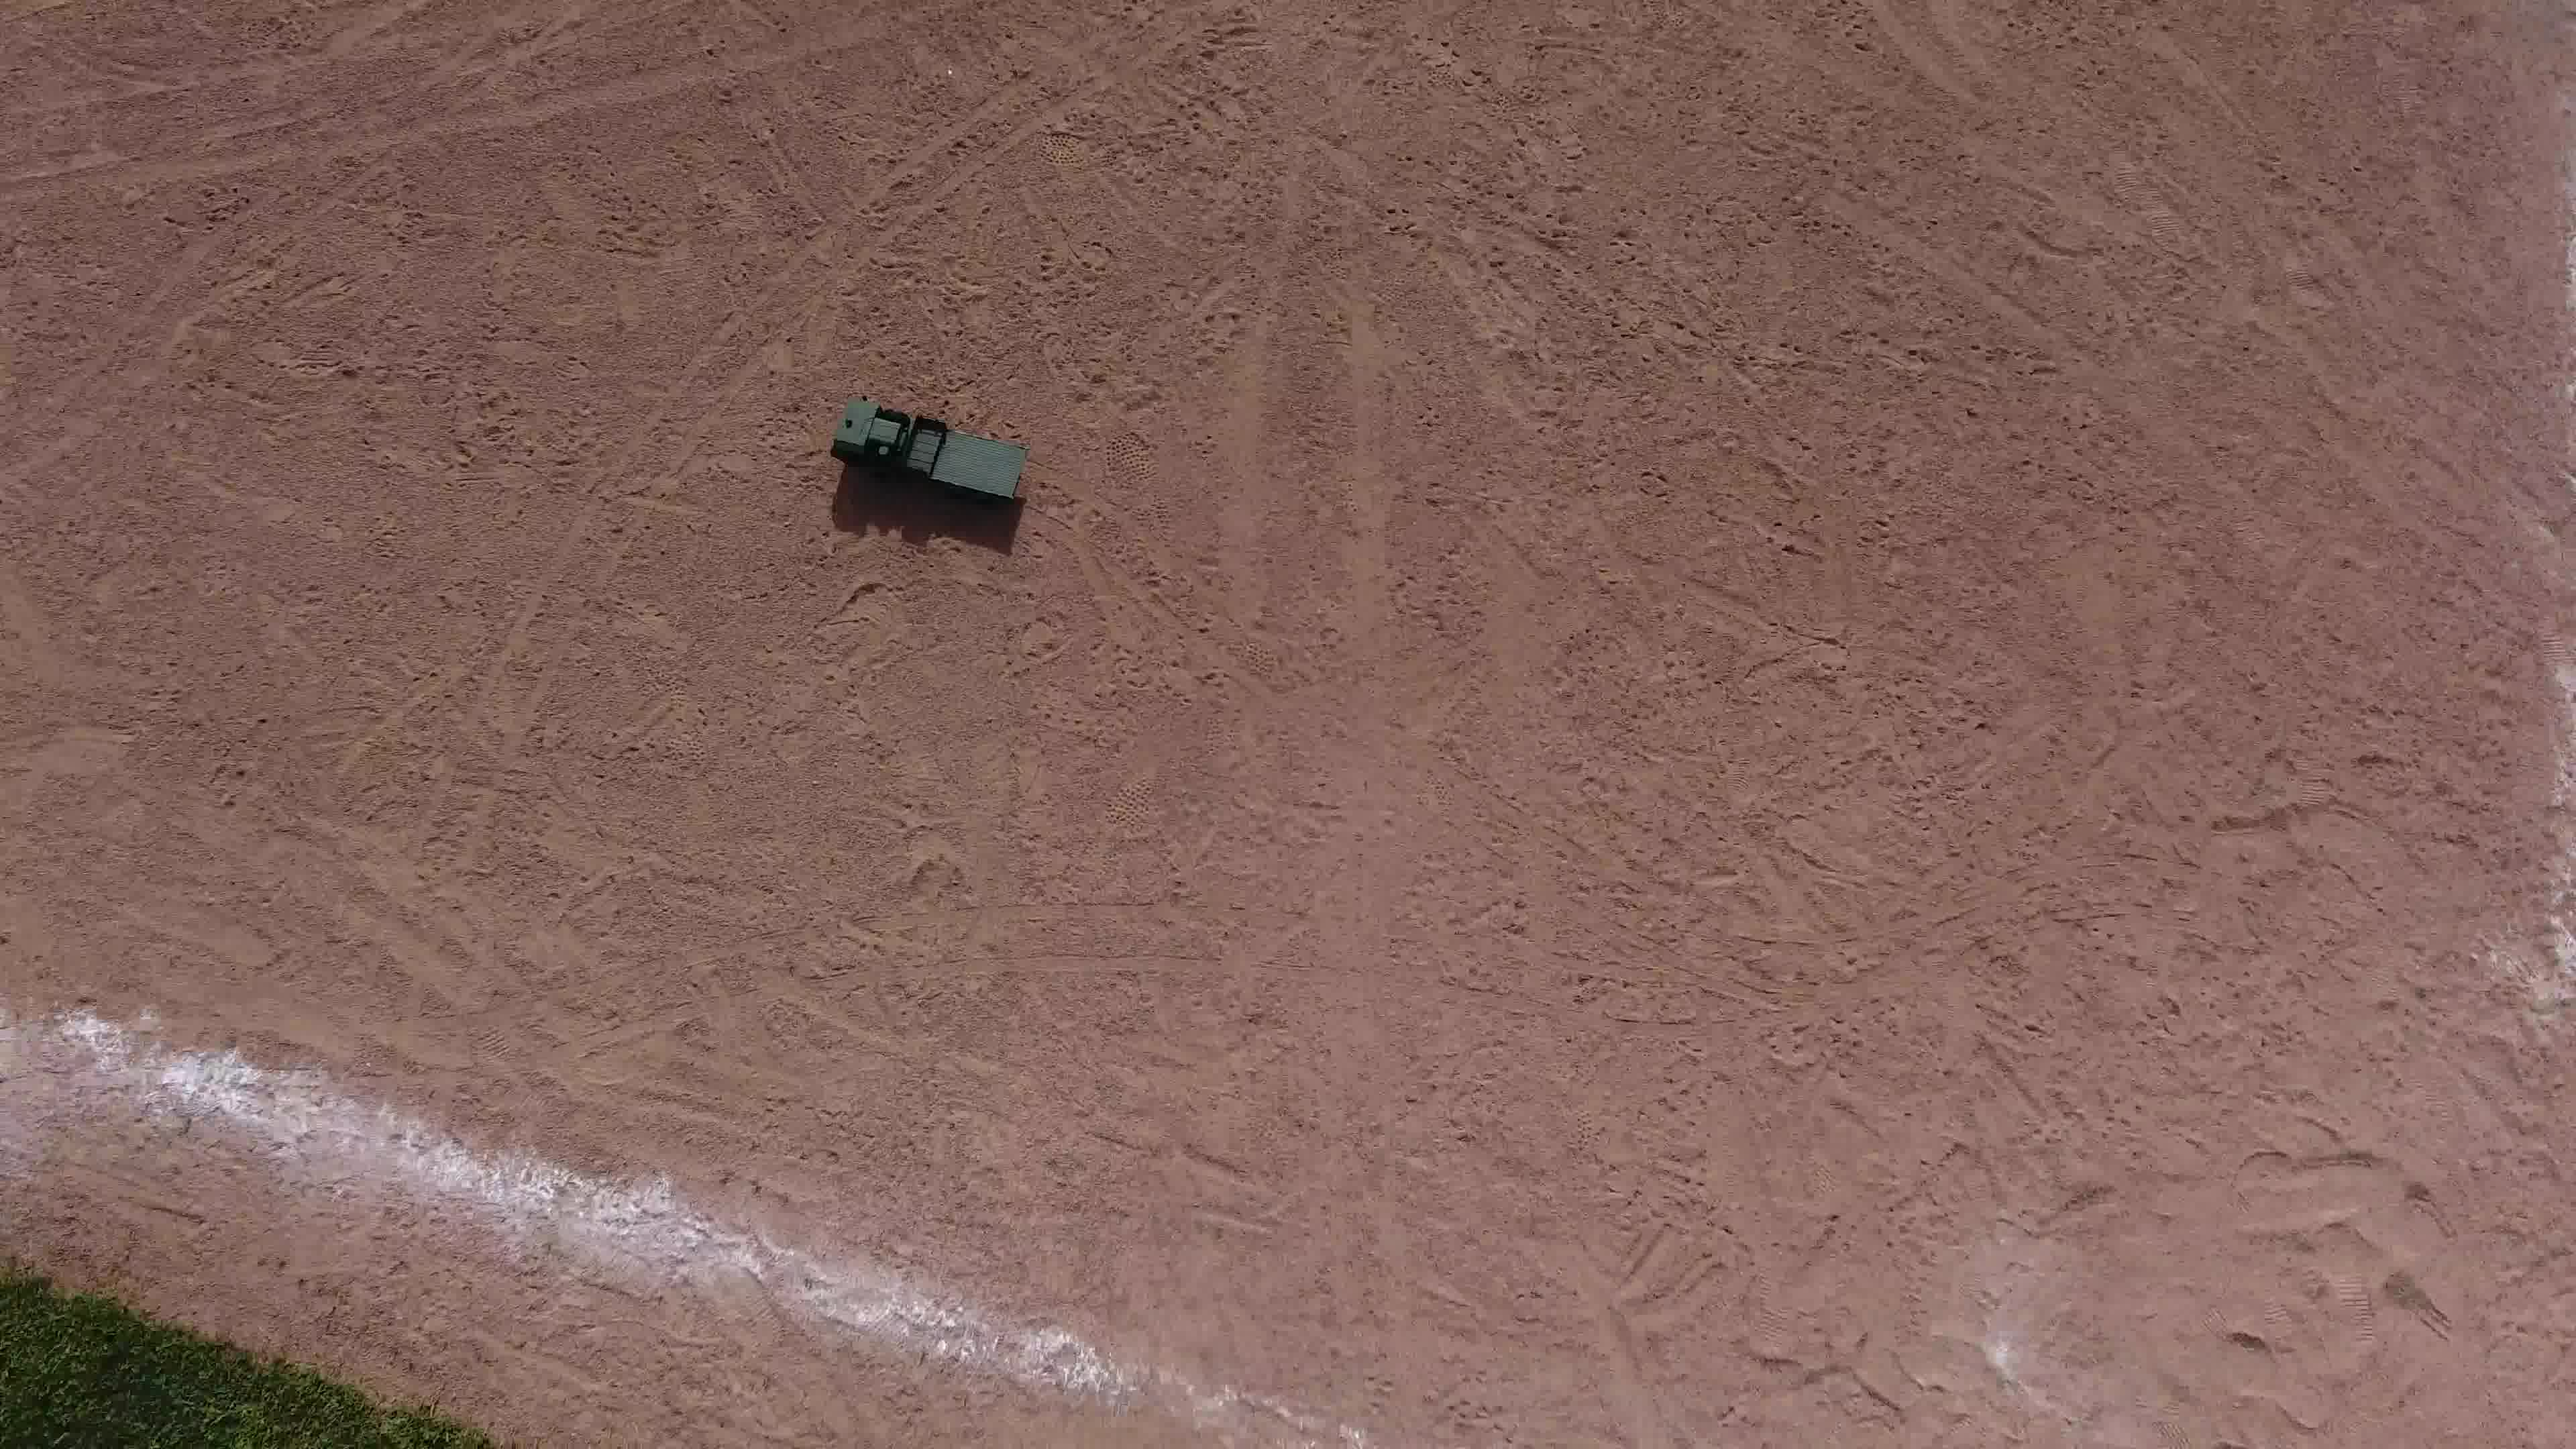transporter9: (812, 391, 1044, 525)
